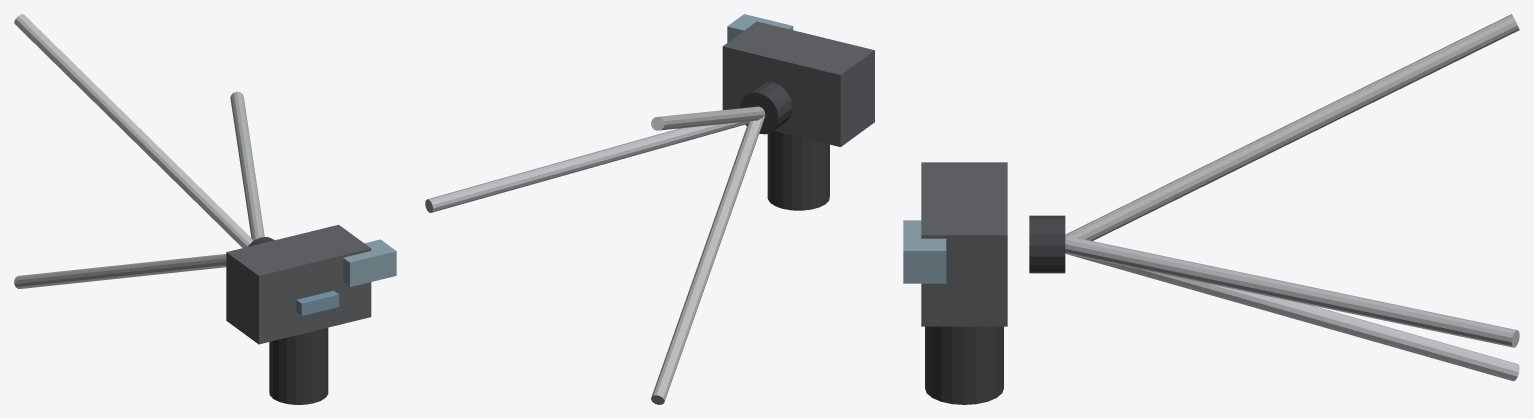
Rendered from camera_cinema_tripod.glb.
3 renders of one model, left to right at view 1: azimuth 30°, elevation 25°; view 2: azimuth 150°, elevation 25°; view 3: azimuth 270°, elevation 25°, orthographic. The views are drawn at different scales.
Parts seen in each view (by area): view 1: camera_body, tripod_leg_1, lens, tripod_leg_2, tripod_leg_0, viewfinder, tally; view 2: camera_body, tripod_leg_0, lens, tripod_leg_2, tripod_head, tripod_leg_1, viewfinder; view 3: camera_body, tripod_leg_1, tripod_leg_0, tripod_leg_2, lens, viewfinder, tripod_head.
Part boxes in pixels (x1=…): camera_body: x1=226, y1=224, x2=371, y2=344; tripod_leg_1: x1=14, y1=14, x2=253, y2=247; lens: x1=269, y1=327, x2=328, y2=404; tripod_leg_2: x1=14, y1=254, x2=226, y2=288; tripod_leg_0: x1=230, y1=91, x2=264, y2=240; viewfinder: x1=343, y1=239, x2=396, y2=286; tally: x1=296, y1=290, x2=339, y2=315; camera_body: x1=722, y1=21, x2=874, y2=146; tripod_leg_0: x1=425, y1=121, x2=748, y2=212; lens: x1=767, y1=131, x2=829, y2=210; tripod_leg_2: x1=651, y1=115, x2=765, y2=404; tripod_head: x1=739, y1=82, x2=792, y2=134; tripod_leg_1: x1=651, y1=106, x2=765, y2=130; viewfinder: x1=727, y1=14, x2=793, y2=42; camera_body: x1=921, y1=162, x2=1007, y2=326; tripod_leg_1: x1=1065, y1=14, x2=1519, y2=240; tripod_leg_0: x1=1065, y1=238, x2=1519, y2=347; tripod_leg_2: x1=1067, y1=254, x2=1519, y2=381; lens: x1=925, y1=326, x2=1003, y2=404; viewfinder: x1=903, y1=220, x2=946, y2=283; tripod_head: x1=1029, y1=215, x2=1065, y2=273.
Bounding box in the file's own units: 0.9767 × 1.12 × 1.71.
